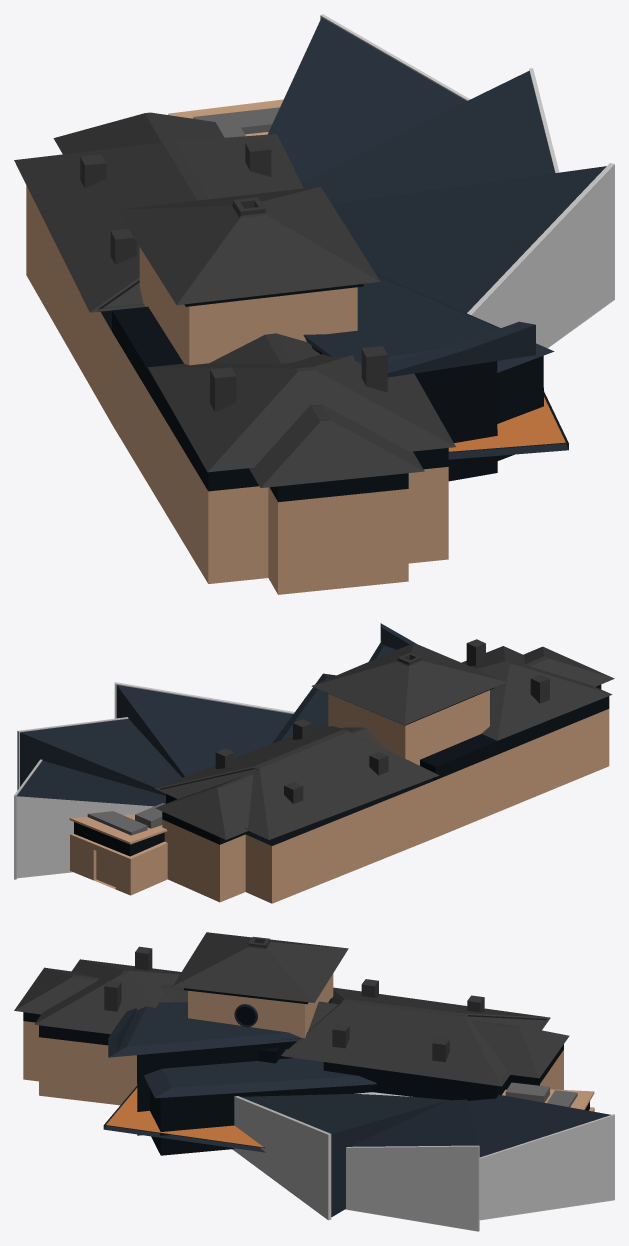
File: kimmeridgehouse_model_published.obj
The picture shows the model from 3 angles, top to bottom: view 1: azimuth 30°, elevation 25°; view 2: azimuth 150°, elevation 25°; view 3: azimuth 270°, elevation 25°; orthographic projection. The views are drawn at different scales.
Visible parts, largest first — view 1: Cube.006, Cube, Cube.002, Plane.002, Cube.003, Cube.004, Plane.001, Cube.007, Cube.001; view 2: Cube.002, Cube.006, Cube, Cube.001, Plane.001, Cube.007, Plane.002; view 3: Cube, Cube.006, Cube.002, Cube.003, Plane.001, Plane.002, Cube.004, Cube.007, Cube.001, Cylinder.
Boxes of the visible parts, <box> form: Cube.006: <box>14,112,455,487</box>; Cube: <box>267,14,614,348</box>; Cube.002: <box>26,185,448,594</box>; Plane.002: <box>303,286,535,377</box>; Cube.003: <box>311,345,543,481</box>; Cube.004: <box>448,391,568,459</box>; Plane.001: <box>363,274,554,372</box>; Cube.007: <box>193,107,279,137</box>; Cube.001: <box>168,99,283,136</box>; Cube.002: <box>162,684,609,903</box>; Cube.006: <box>154,639,614,839</box>; Cube: <box>14,682,294,879</box>; Cube.001: <box>69,814,167,895</box>; Plane.001: <box>272,673,335,743</box>; Cube.007: <box>87,803,164,835</box>; Plane.002: <box>368,623,416,661</box>; Cube: <box>232,1092,614,1231</box>; Cube.006: <box>14,932,569,1086</box>; Cube.002: <box>23,973,563,1105</box>; Cube.003: <box>137,998,372,1155</box>; Plane.001: <box>144,1058,376,1098</box>; Plane.002: <box>108,1002,300,1057</box>; Cube.004: <box>103,1085,265,1152</box>; Cube.007: <box>505,1082,577,1107</box>; Cube.001: <box>502,1089,594,1111</box>; Cylinder: <box>234,1004,257,1027</box>.
Size of the model in its own units: 54.84 by 19.41 by 70.51.
